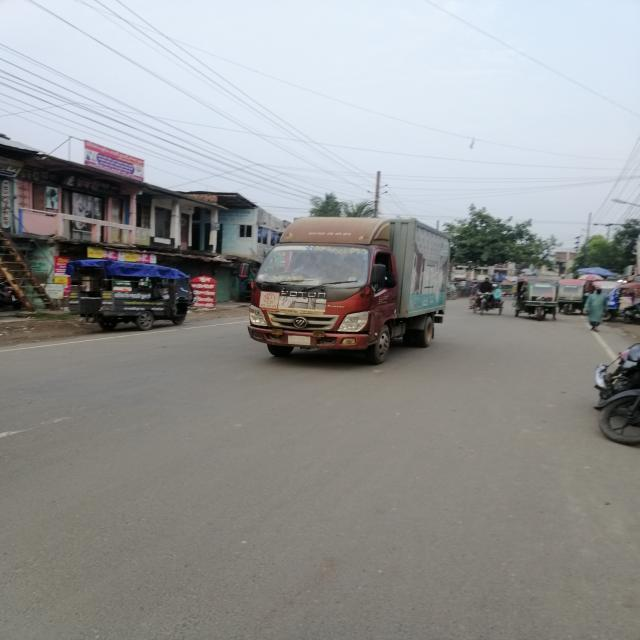Easybike: (510, 271, 566, 338)
Leguna: (55, 250, 229, 354)
Pick-Up Truck: (236, 202, 473, 371)
Rickshaw: (462, 277, 514, 338)
